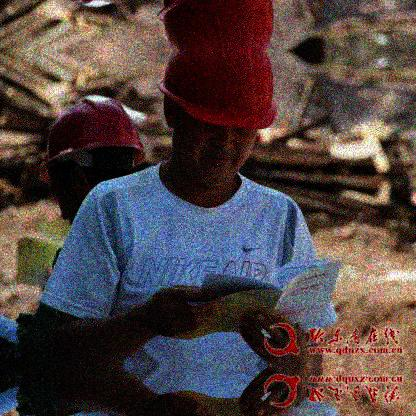helmet: (157, 52, 279, 183), (39, 94, 149, 223)
